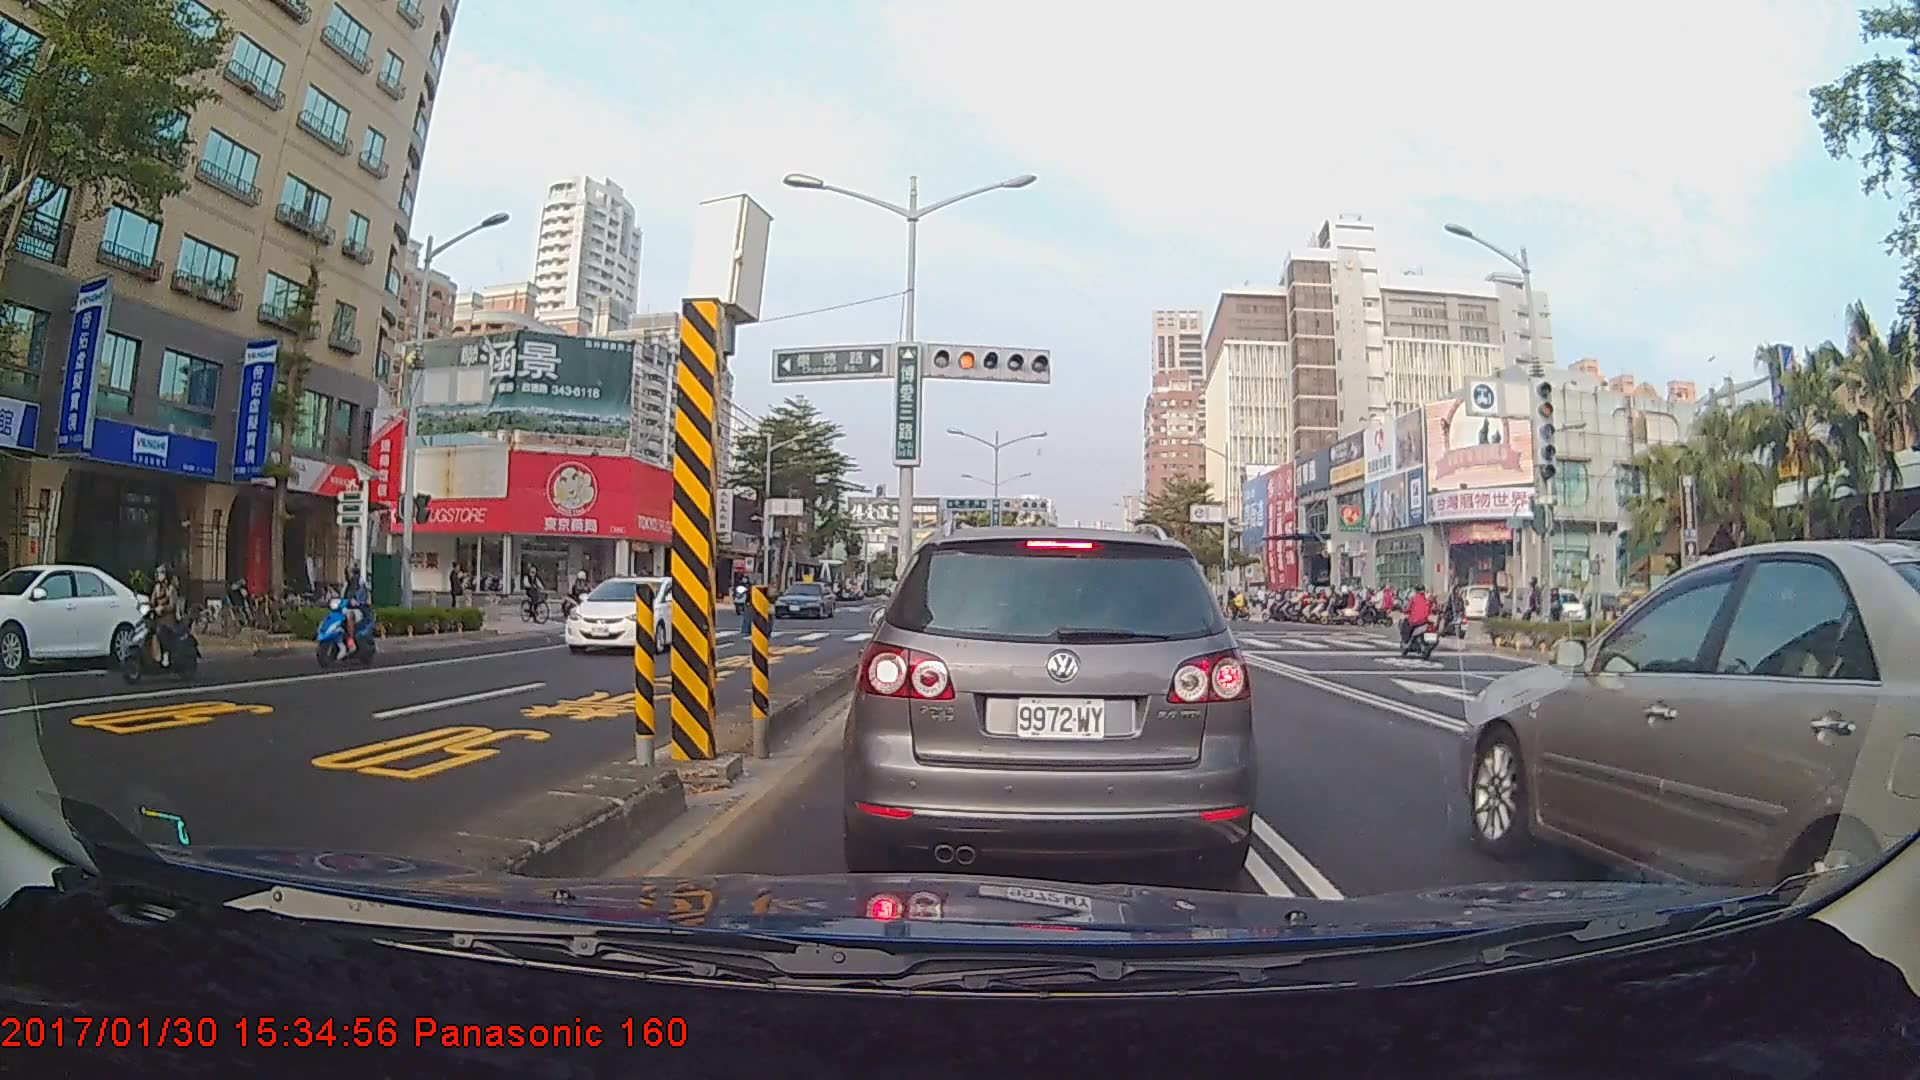pedestrian: (1484, 579, 1508, 637), (448, 558, 468, 621)
rider: (116, 562, 207, 691), (311, 552, 381, 679), (1394, 583, 1448, 671), (518, 559, 553, 629), (1436, 582, 1473, 646)
vehicle: (1459, 539, 1920, 982), (856, 521, 1249, 876), (0, 561, 177, 671), (562, 572, 701, 655), (773, 578, 834, 620)
